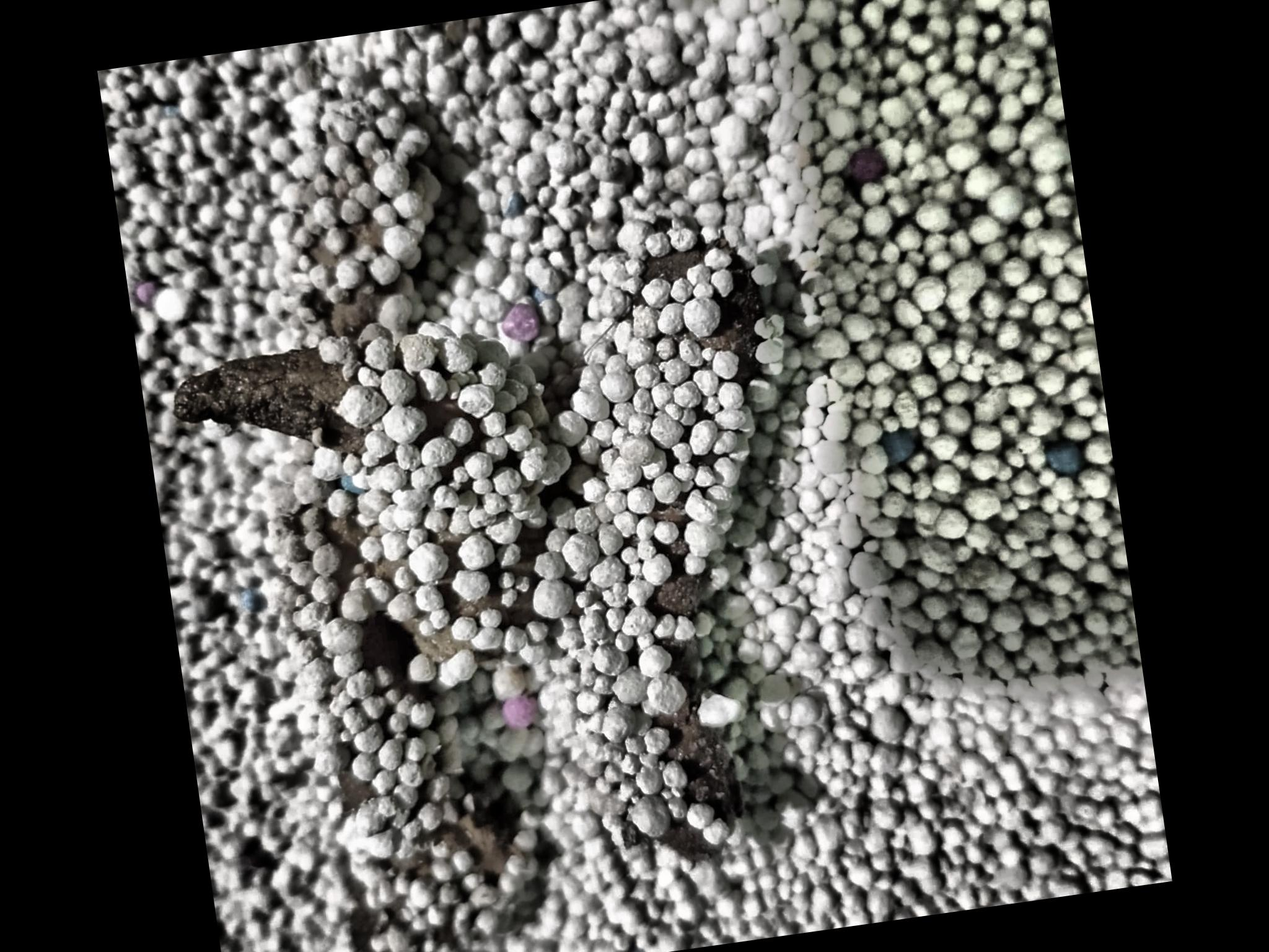poop: (175, 87, 779, 951)
